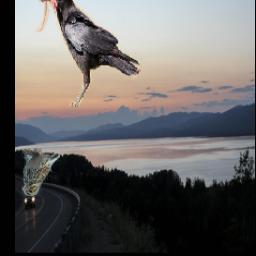Crow: (34, 0, 142, 107)
Sparrow: (23, 148, 61, 196)
